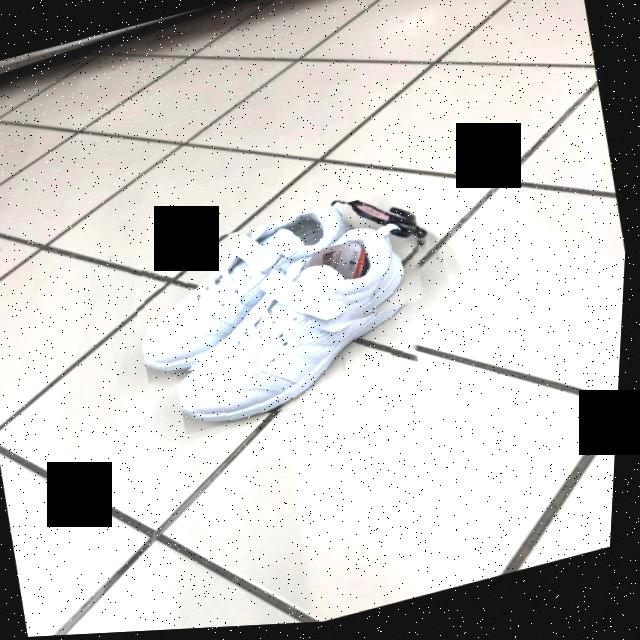shoe: (146, 204, 420, 375), (183, 250, 415, 427)
